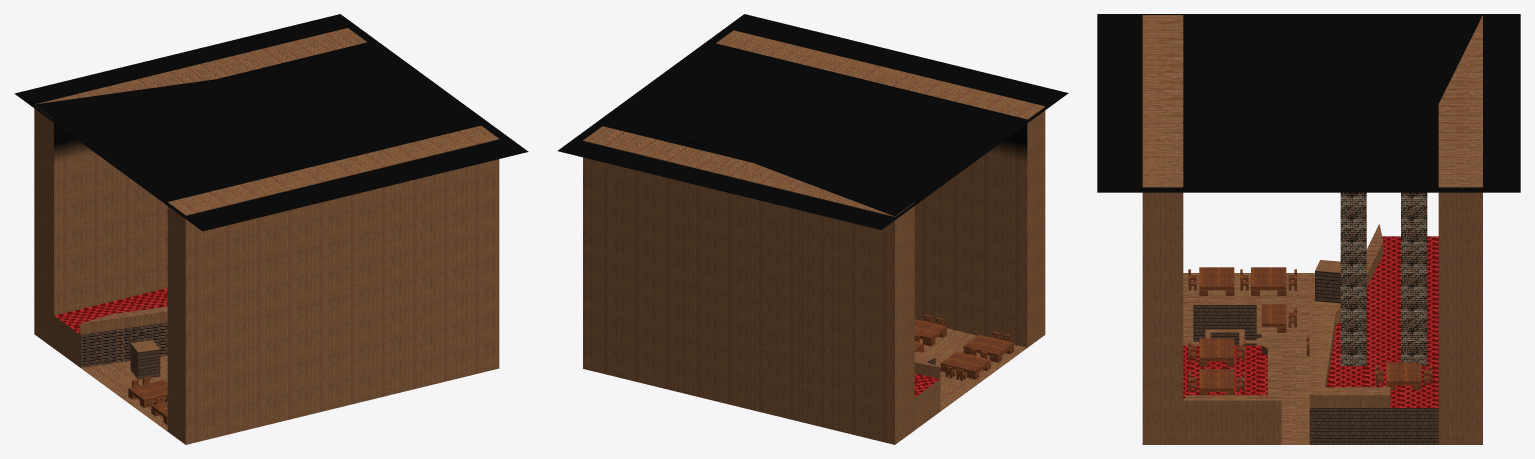
File: library.glb
The picture shows the model from 3 angles, left to right: view 1: azimuth 30°, elevation 25°; view 2: azimuth 150°, elevation 25°; view 3: azimuth 270°, elevation 25°; orthographic projection. The views are drawn at different scales.
Parts seen in each view (by area): view 1: map, ceiling, bookshelf, table.002; view 2: map, ceiling, table.002, table.001, tables; view 3: map, ceiling, pillar, pillar.001, bookshelf, table.001, table.002, table.005, table.007, table.006, table.003.
Part boxes in pixels (x1,y1,x2,y2): map: (34,28,499,444); ceiling: (14,14,528,231); bookshelf: (130,340,160,379); table.002: (128,380,167,407); map: (583,30,1045,444); ceiling: (558,14,1068,229); table.002: (940,351,990,379); table.001: (963,335,1013,362); tables: (914,319,946,346); map: (1142,15,1482,444); ceiling: (1097,14,1520,192); pillar: (1340,133,1366,365); pillar.001: (1401,133,1427,365); bookshelf: (1315,260,1340,303); table.001: (1199,267,1234,295); table.002: (1251,267,1286,295); table.005: (1199,338,1234,366); table.007: (1386,362,1421,390); table.006: (1199,369,1234,395); table.003: (1261,304,1286,332).
Size of the model in its own units: 987 by 666 by 987.
8 materials, 7 textured.
